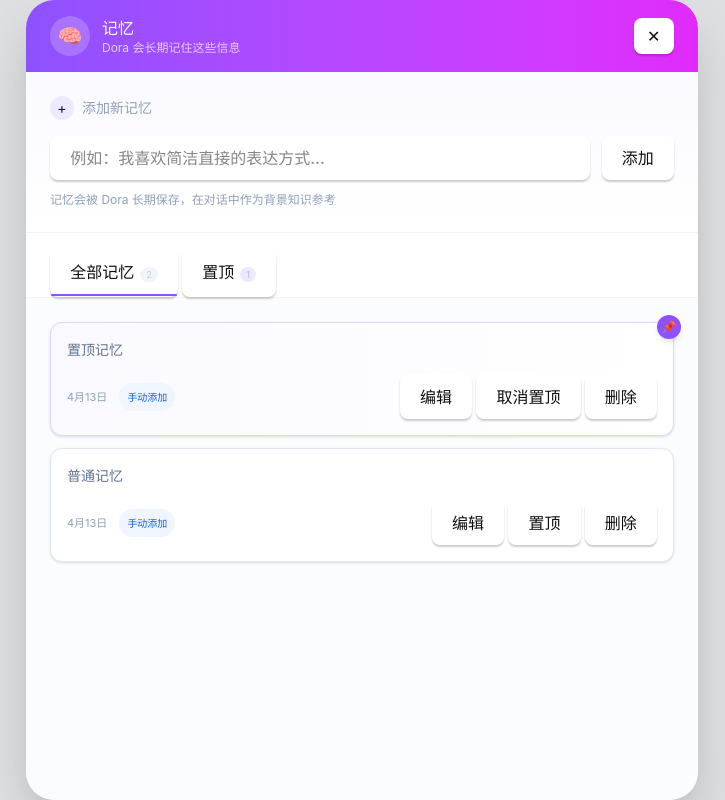
MemoryPanel › switches between all and pinned tabs
Check: the text "置顶记忆" is shown, box [67,341,123,358]
Check: the text "普通记忆" is shown, box [67,467,123,484]
// Click pinned tab - use the tab button with the count badge
Click the button "置顶1" at coordinates (229, 273), box [182,249,276,297]
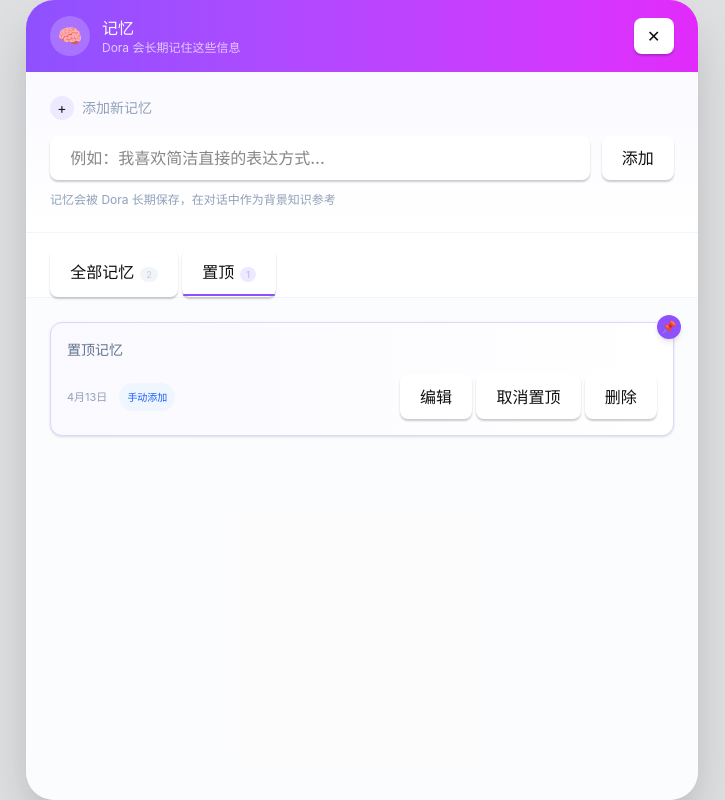
Check: the text "置顶记忆" is shown, box [67,341,123,358]
Check: the text "普通记忆" is gone
